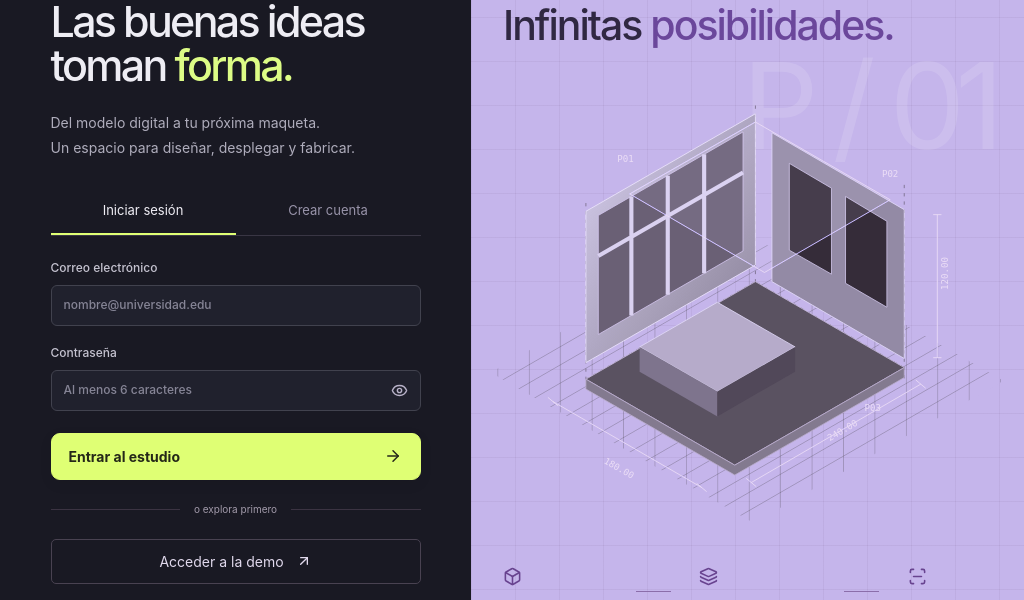
Test case: flujo local del estudio › procesa, selecciona, exporta y bloquea resultados obsoletos
This screenshot has width=1024, height=600.
Later steps or results of the test are not shown.
Step 1. Click the button "Acceder a la demo" → (236, 561), box [50, 539, 420, 584]
(page scrolled)
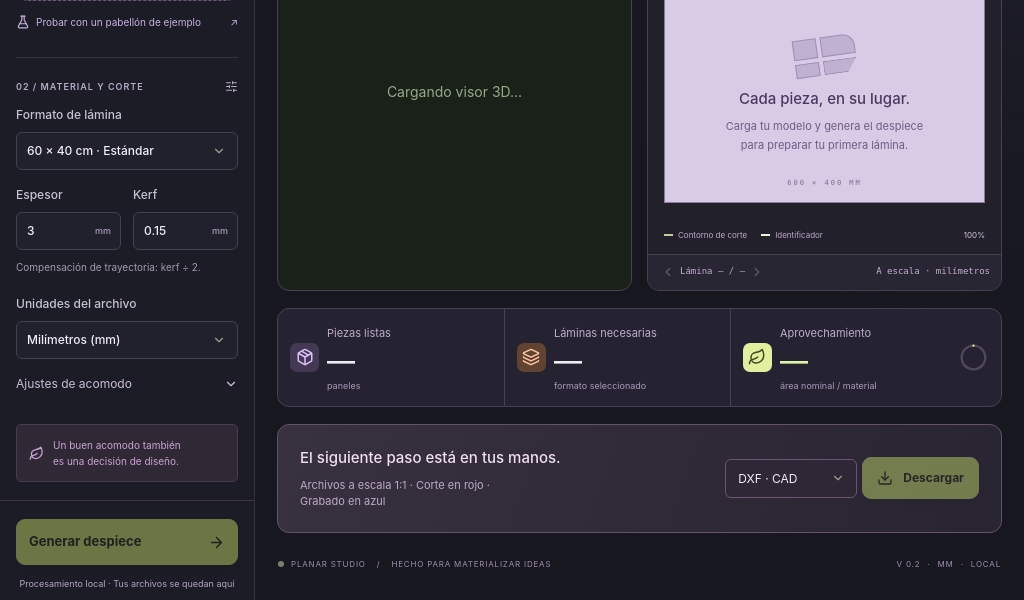
Expected: the button "Descargar" is disabled, [862, 457, 979, 499]
